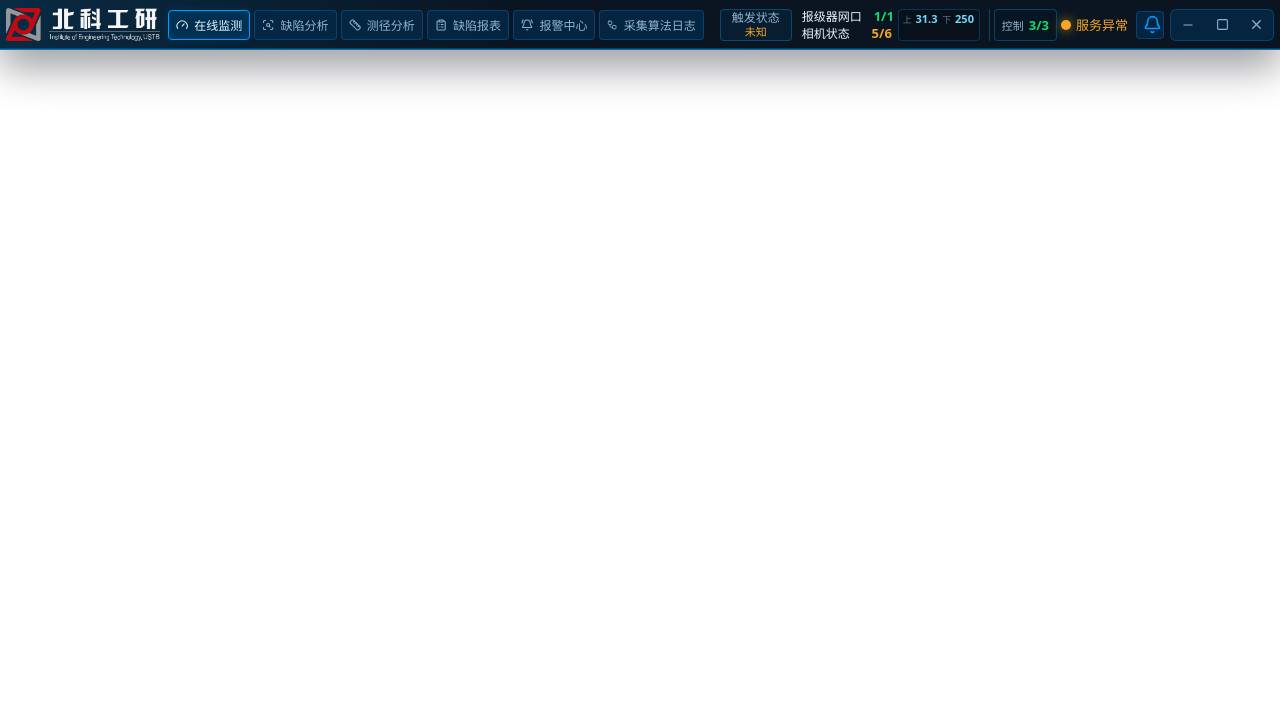
Test: BrandHeader › shows each camera with its corresponding adapter realtime speed
What coordinates should you click on to do the following:
click the button with aria-label "相机状态，在线 5 路，异常 1 路"
I would click on:
 (844, 34)
Its box is [796, 26, 893, 41].
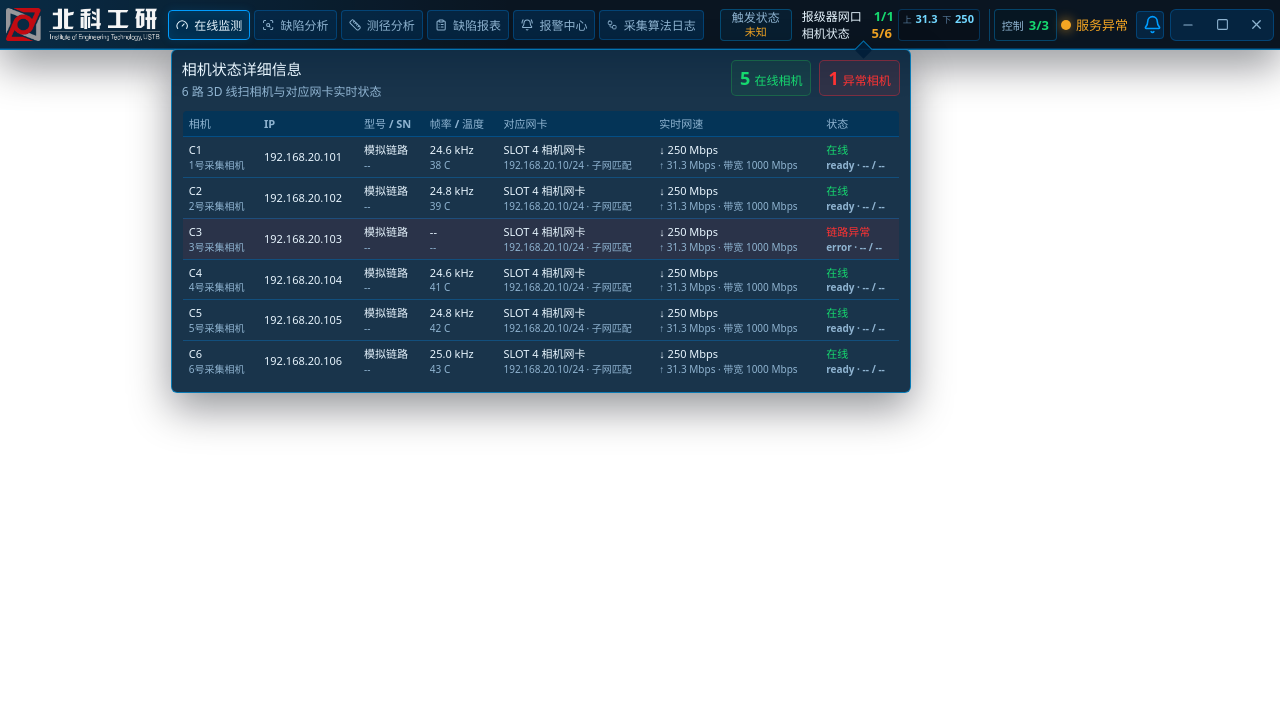
Expected: the text "6 路 3D 线扫相机与对应网卡实时状态" is shown, [182, 82, 382, 100]
Expected: the text "SLOT 4 相机网卡" is shown 6 times, [498, 137, 653, 178]; [498, 178, 653, 218]; [498, 218, 653, 259]; [498, 259, 653, 300]; [498, 300, 653, 341]; [498, 340, 653, 381]
Expected: the text "↓ 250 Mbps" is shown 6 times, [653, 137, 820, 178]; [653, 178, 820, 218]; [653, 218, 820, 259]; [653, 259, 820, 300]; [653, 300, 820, 341]; [653, 340, 820, 381]
